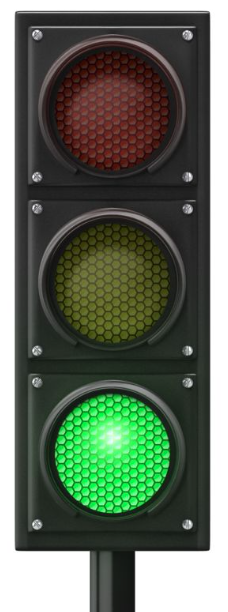green: (22, 11, 228, 564)
